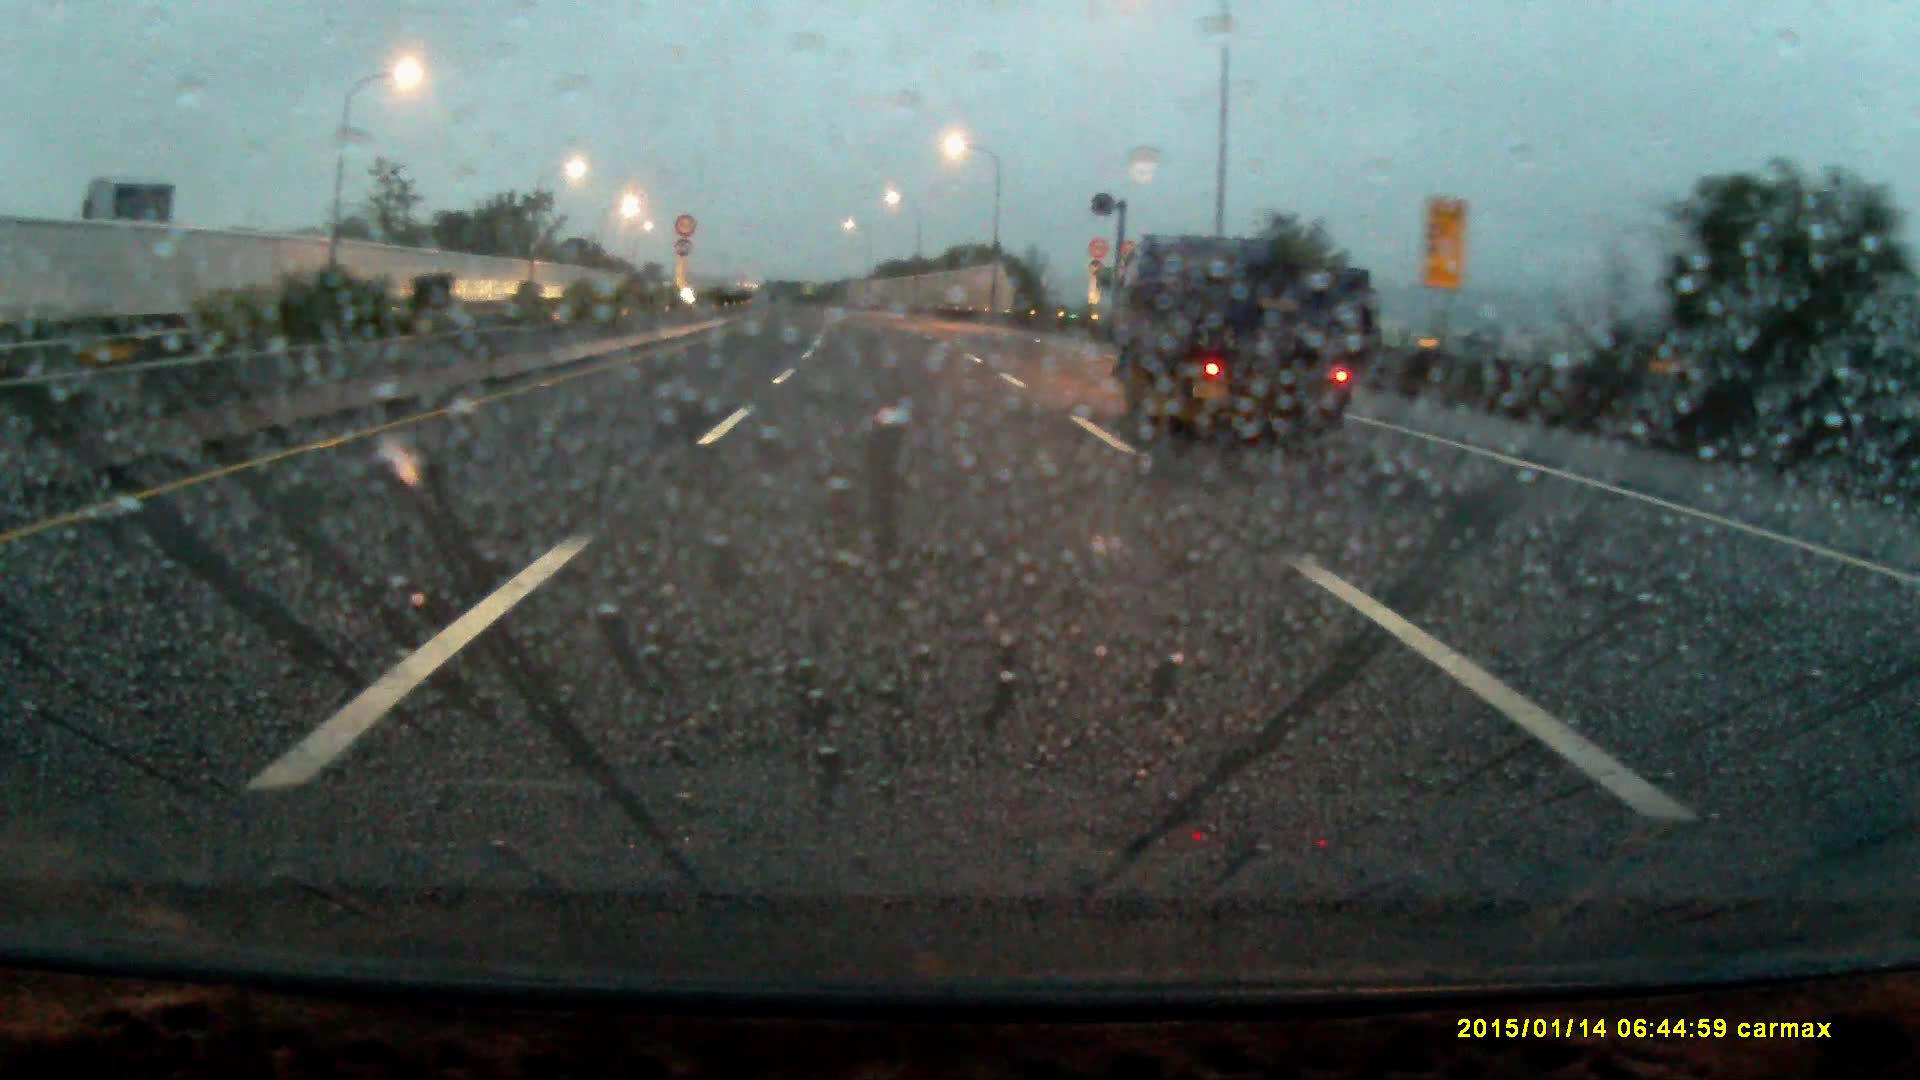vehicle: (1116, 233, 1382, 434)
